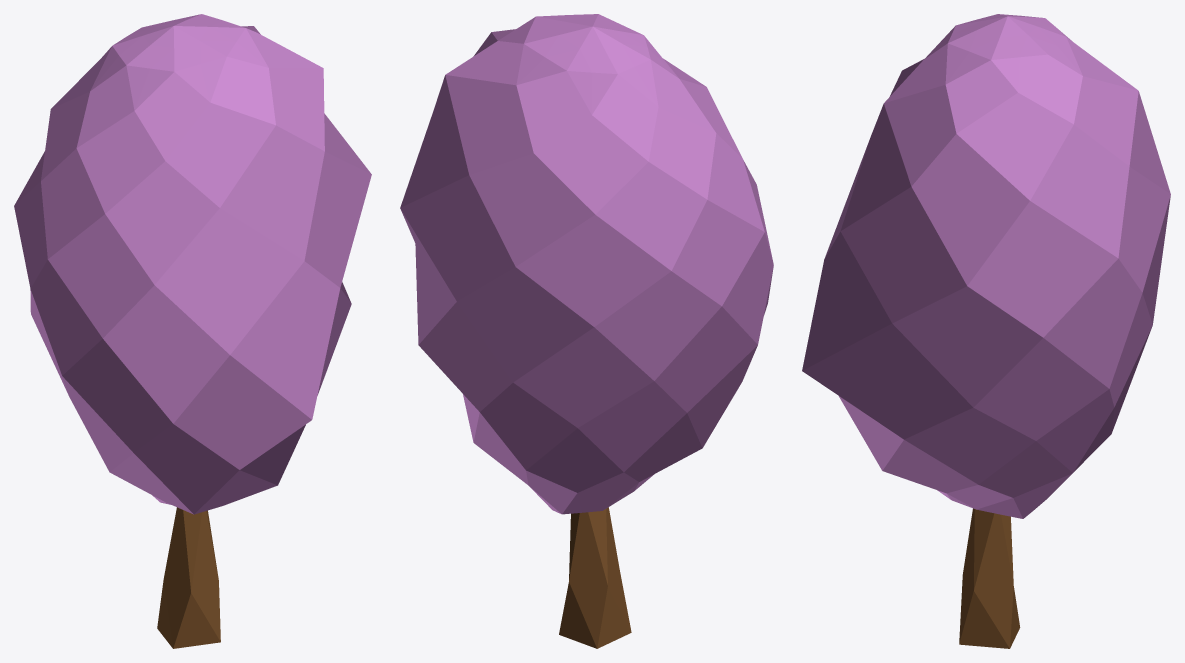
Rendered from Pink tree 2.fbx.
3 renders of one model, left to right at view 1: azimuth 30°, elevation 25°; view 2: azimuth 150°, elevation 25°; view 3: azimuth 270°, elevation 25°, orthographic.
Visible parts, largest first — view 1: Cube.158; view 2: Cube.158; view 3: Cube.158.
Part boxes in pixels (bbox=[...]): Cube.158: bbox=[14, 14, 371, 648]; Cube.158: bbox=[400, 14, 773, 648]; Cube.158: bbox=[802, 14, 1170, 648].
Bounding box in the file's own units: 678 × 1202 × 652.
